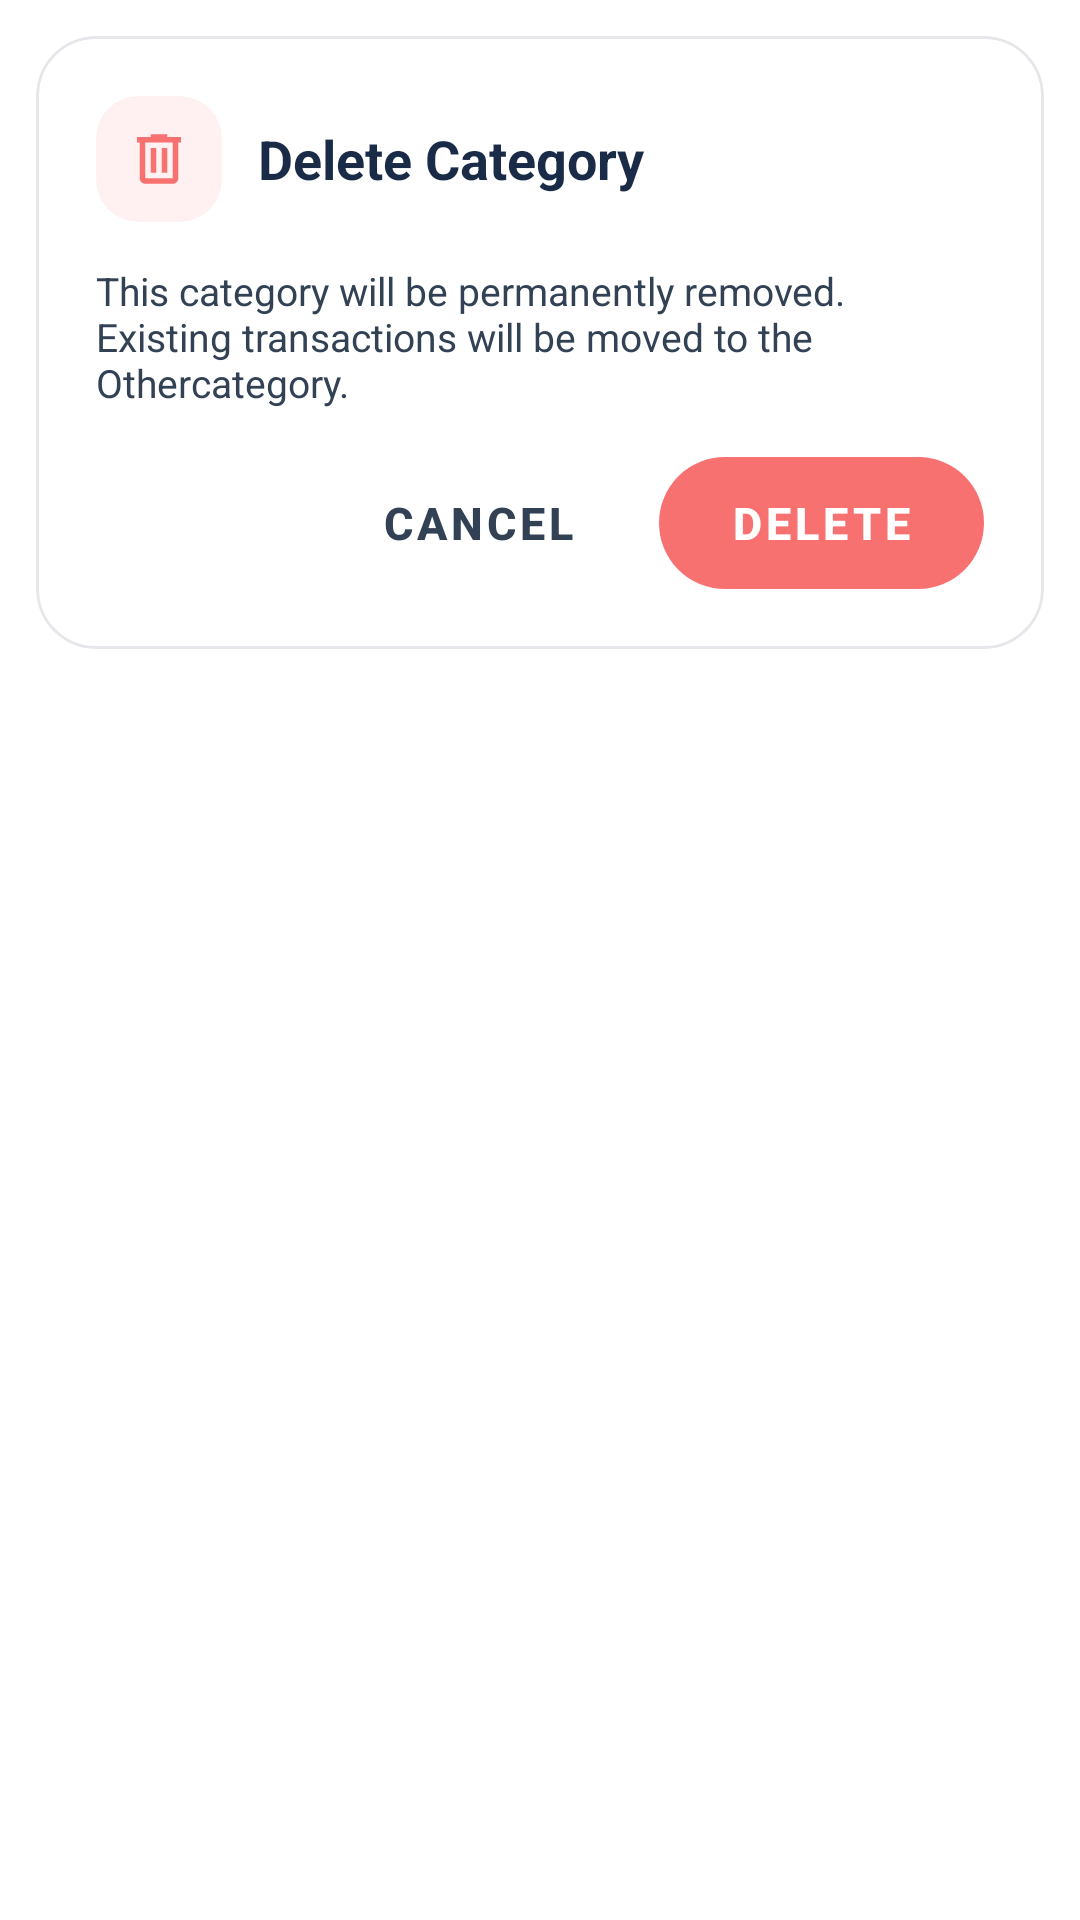

Icon bounding boxes for this 1080*1920 phone screenshot, format (x1, y1, x2, y2):
editor delete: (137, 134, 181, 184)
